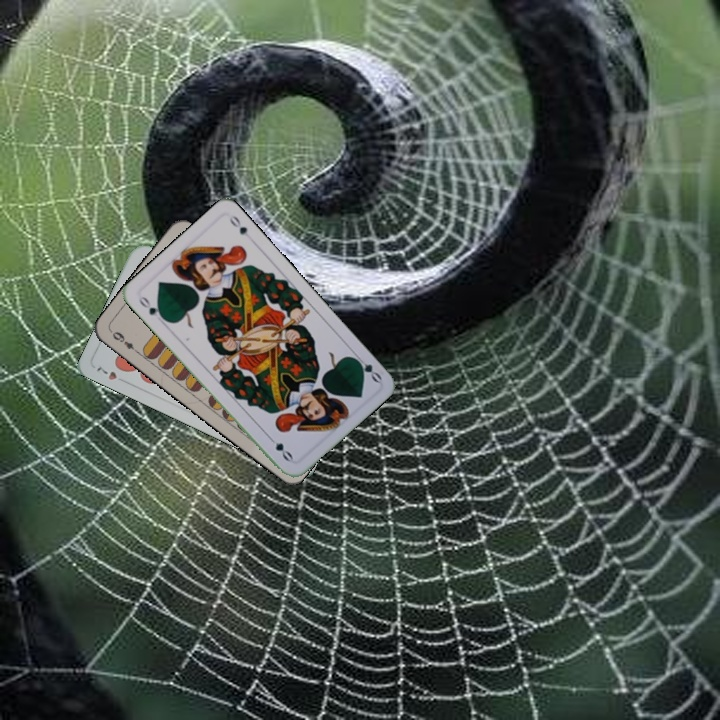E9: (108, 327, 142, 356)
GO: (349, 351, 384, 385), (135, 292, 168, 323)
H7: (92, 363, 130, 386)
